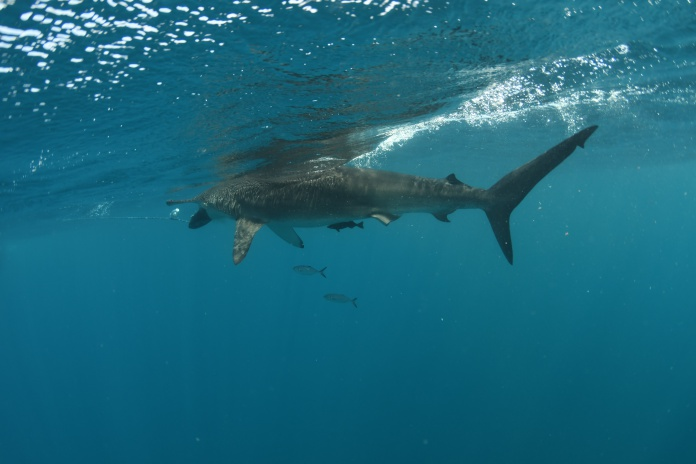Hammer: (156, 90, 628, 293)
